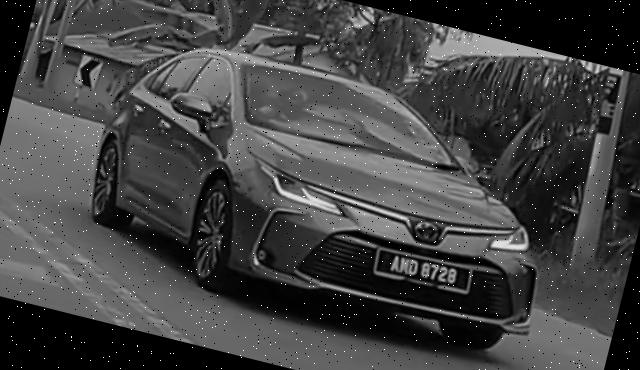License_Plate: (371, 244, 477, 300)
car: (72, 22, 581, 369)
